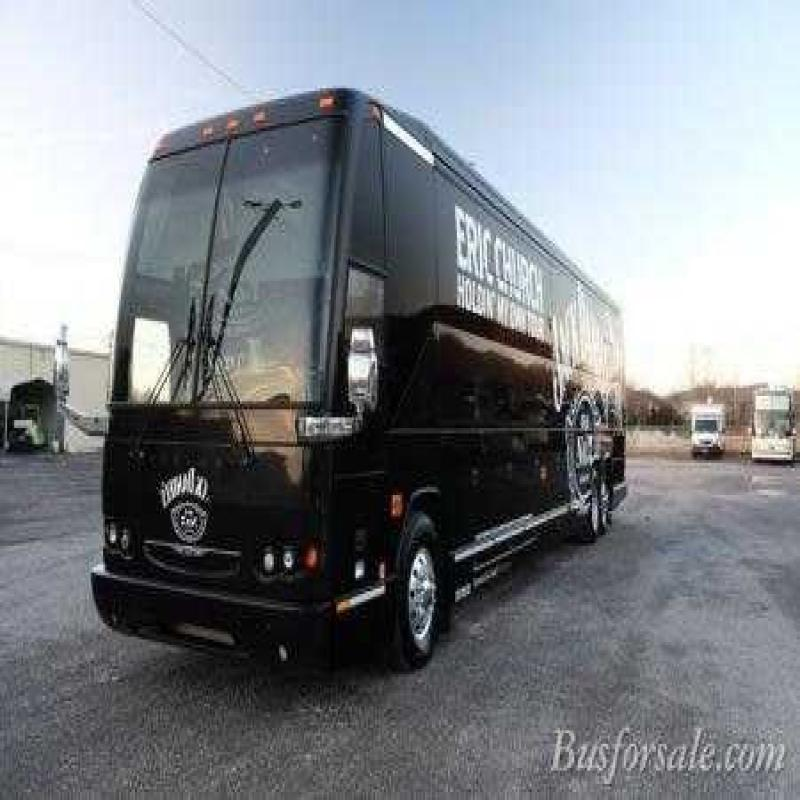bus: (117, 86, 630, 631)
